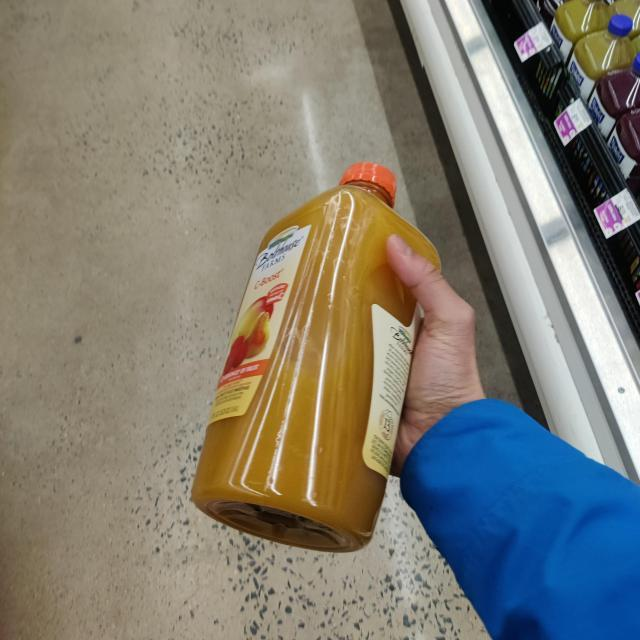Juice: (197, 162, 435, 552)
